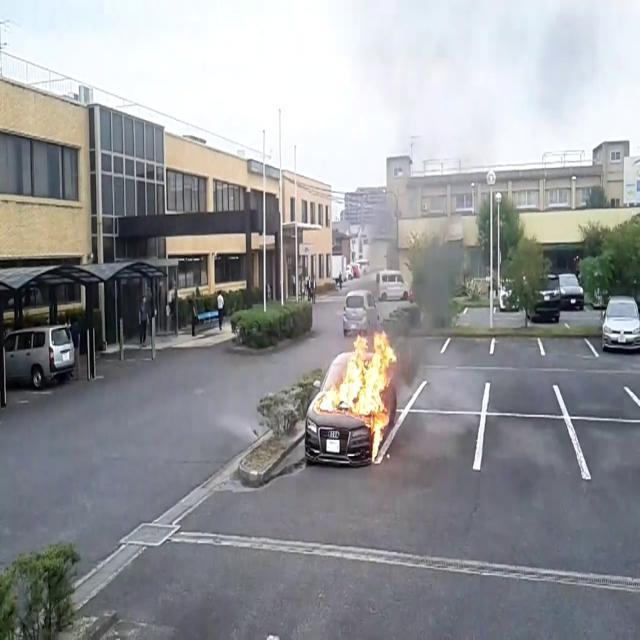Fire: (314, 324, 400, 451)
